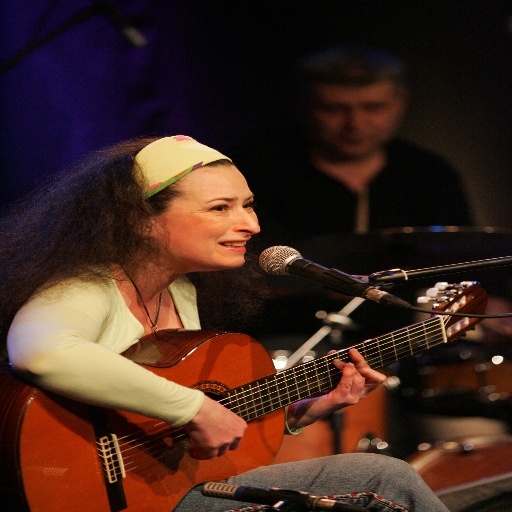hand: (151, 393, 259, 468), (300, 347, 389, 423)
